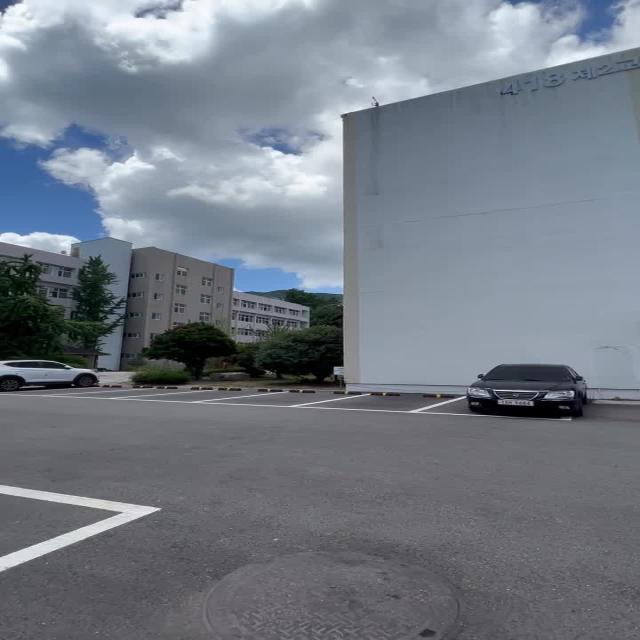building: (95, 254, 262, 332)
